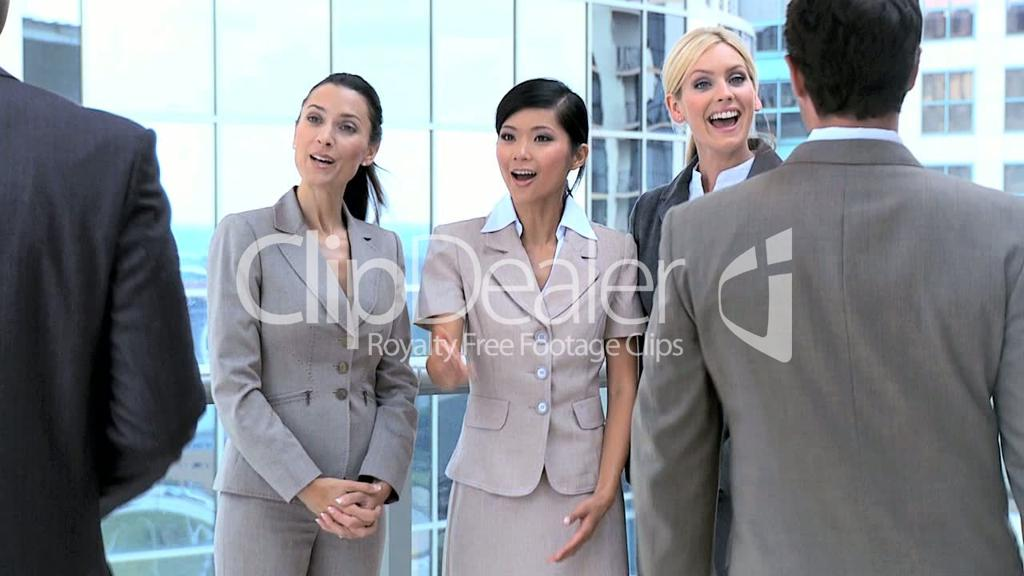face: (294, 78, 368, 190), (682, 44, 752, 148), (500, 104, 572, 200)
